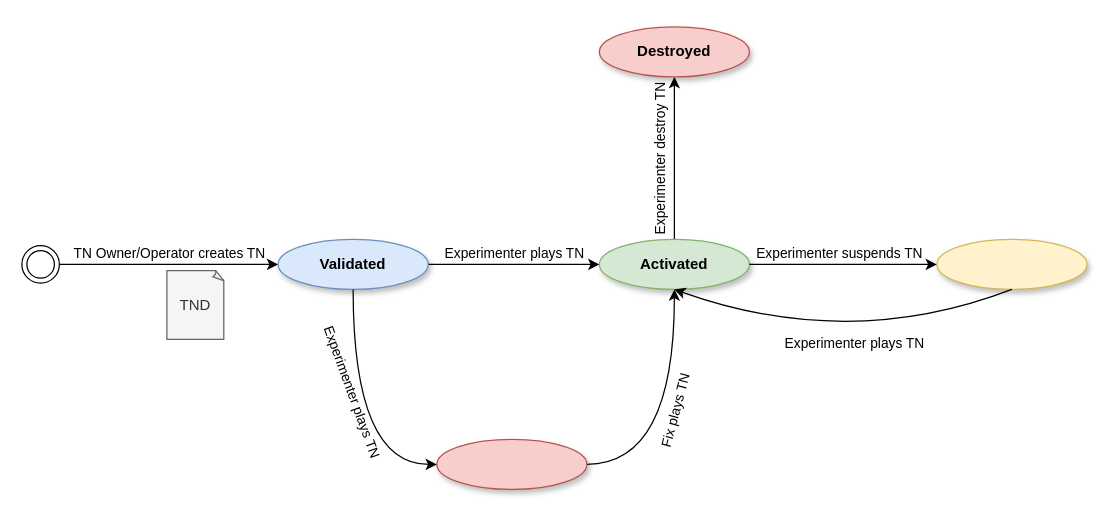
Image size: 1116x520. Some labels were removed from this diagram. The centre of each missing label's shape, as x and y in pixels:
"Failed" goes at (512,465).
"Suspended" goes at (1012,265).
